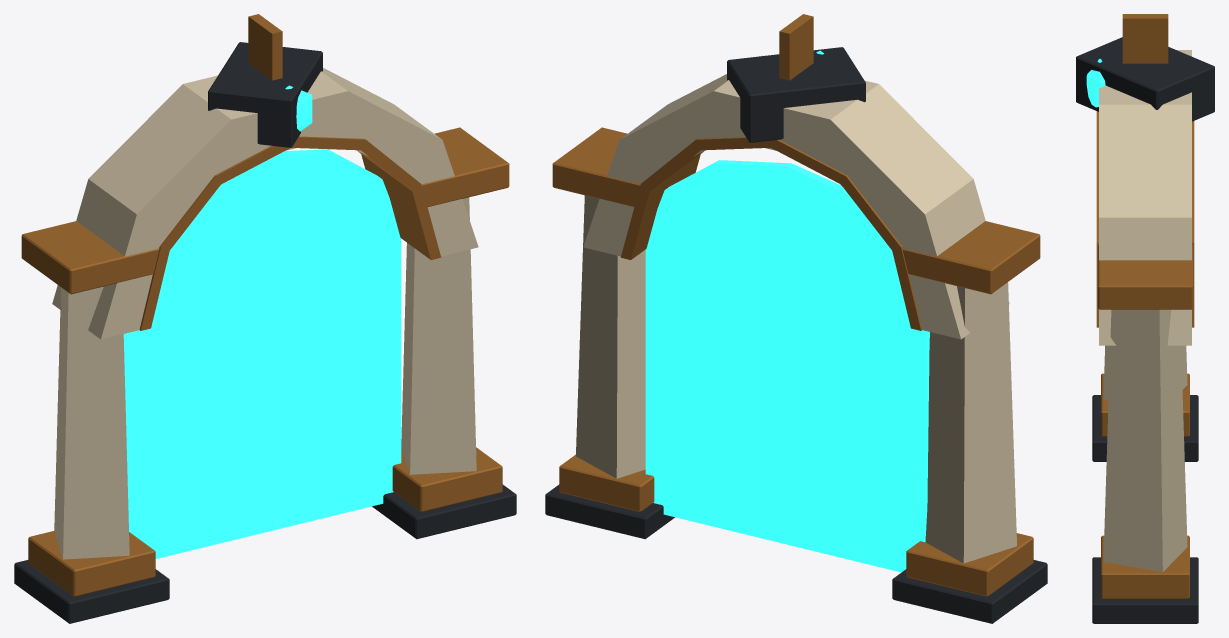
Rendered from portal_world_forge_LOD2.glb.
The picture shows the model from 3 angles, left to right: view 1: azimuth 30°, elevation 25°; view 2: azimuth 150°, elevation 25°; view 3: azimuth 270°, elevation 25°; orthographic projection. The views are drawn at different scales.
Parts seen in each view (by area): view 1: portal_world_forge_LOD2; view 2: portal_world_forge_LOD2; view 3: portal_world_forge_LOD2.
Boxes of the visible parts, x1,y1,x2,y2 form: portal_world_forge_LOD2: [14, 14, 516, 623]; portal_world_forge_LOD2: [545, 14, 1047, 623]; portal_world_forge_LOD2: [1076, 14, 1214, 623].
Bounding box in the file's own units: 5.22 × 5.85 × 1.46.
